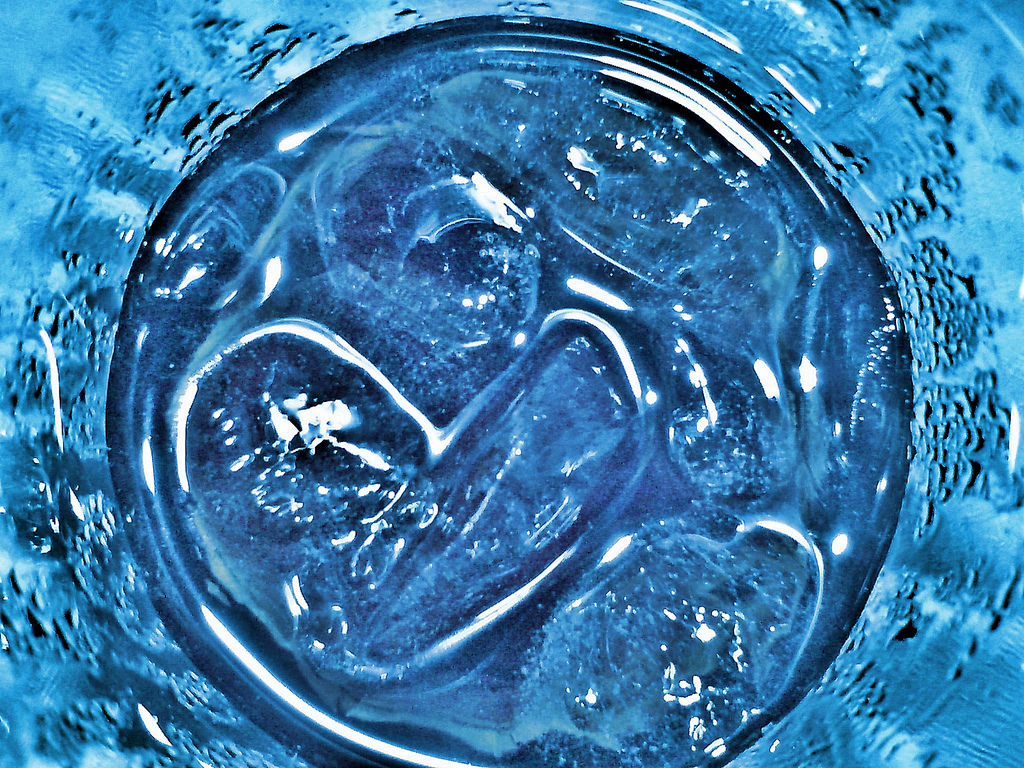glass of water: (127, 79, 999, 755)
